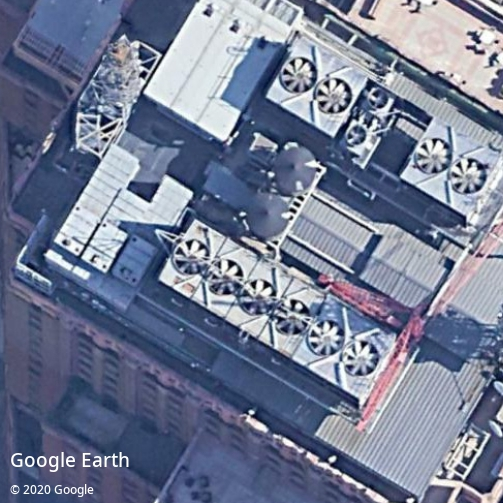Vent: (306, 318, 345, 357), (172, 237, 210, 277), (272, 298, 312, 336), (314, 77, 353, 115), (449, 157, 488, 195), (205, 258, 244, 296), (280, 56, 318, 94), (341, 340, 380, 377), (239, 279, 277, 316), (416, 138, 453, 174), (345, 123, 368, 147), (367, 87, 390, 110)
